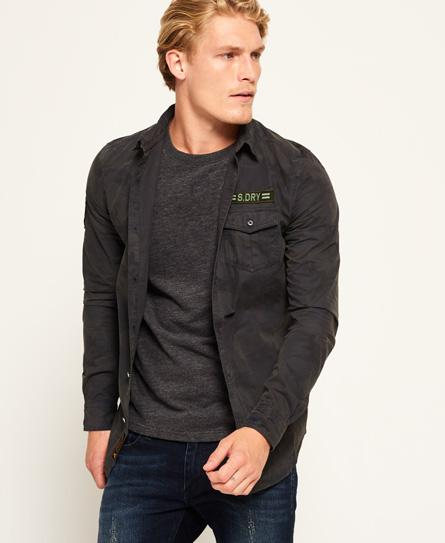teeshirt: (64, 100, 349, 492)
